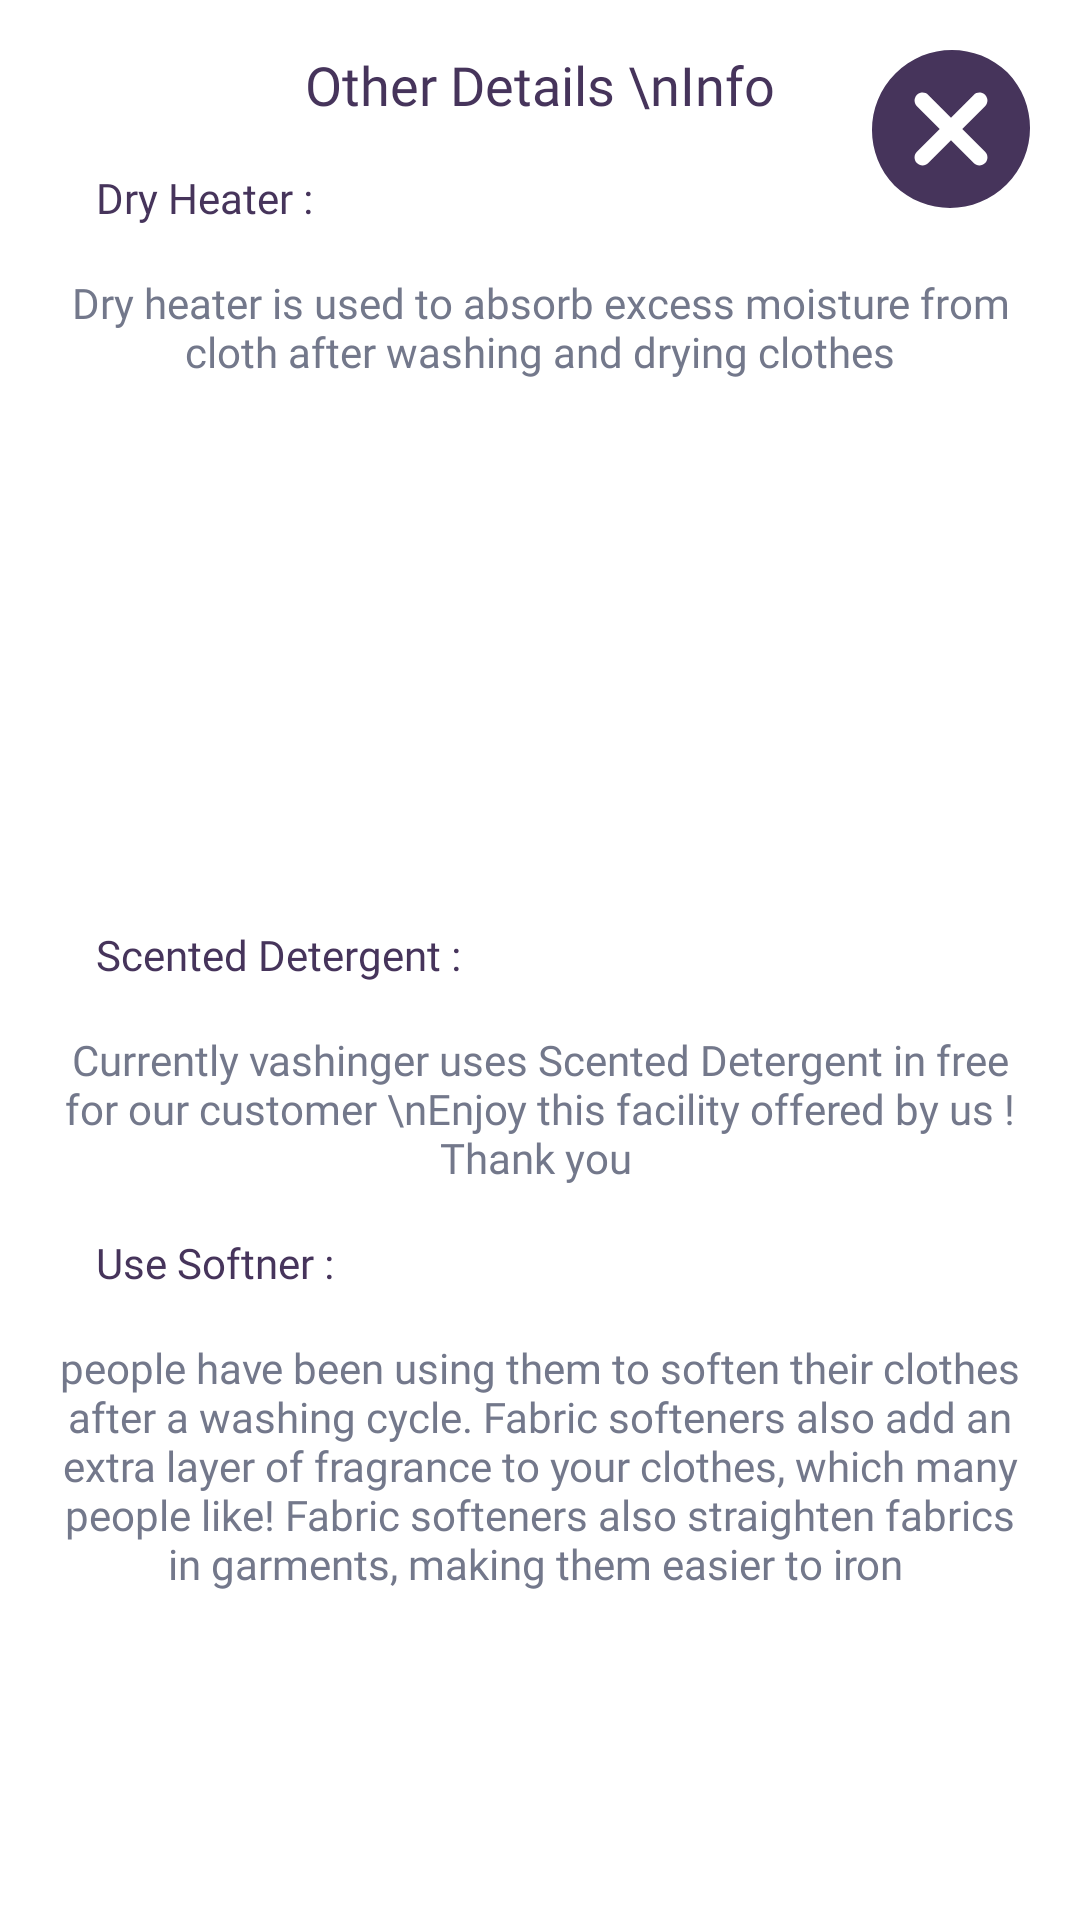

Screen size 1080w x 1920h. Icon name, then its center in pixels as point (x, y):
close: point (951, 129)
